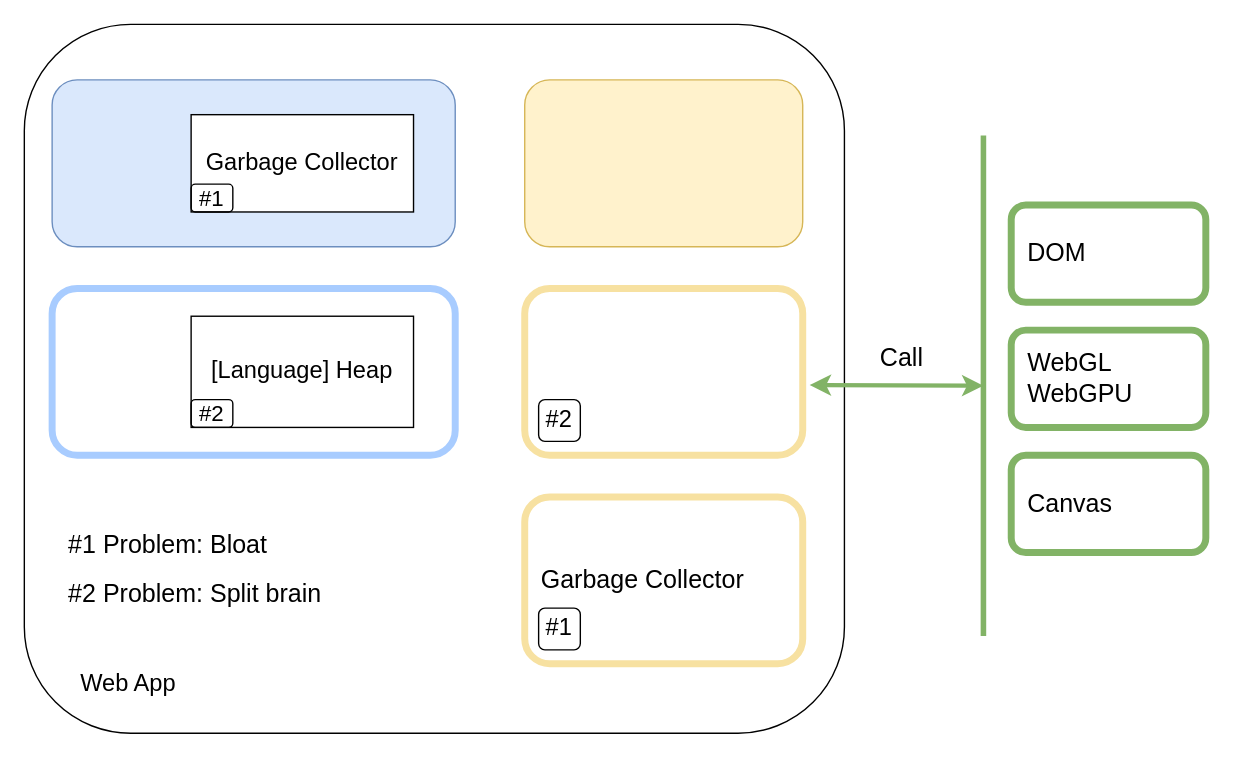
Some shapes in this 1233 by 758 pixel diagram are drawn without their labels. The shapes that lost their labels are listed below. From the top down, each one's box as (x1, y1, x2, y2) in pixels, then its label:
(51, 79, 455, 247): Wasm Module
(523, 79, 803, 247): JavaScript Core
(48, 284, 458, 458): Linear Memory
(521, 284, 806, 458): JavaScript Heap
